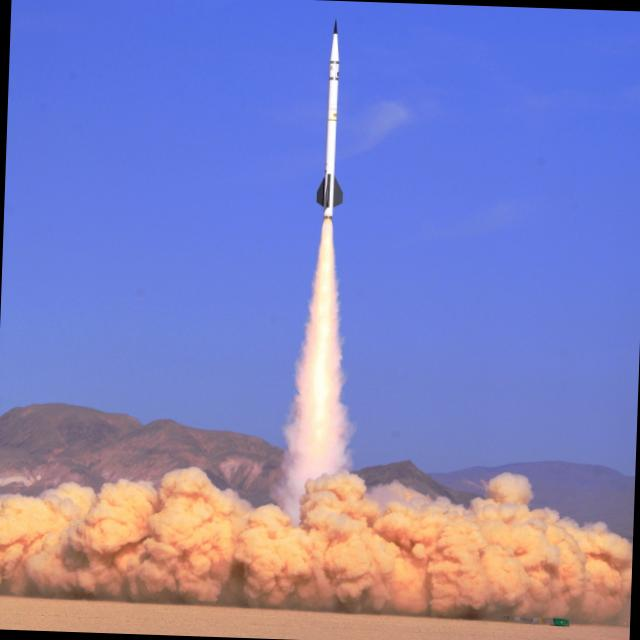rocket: (308, 18, 351, 351)
